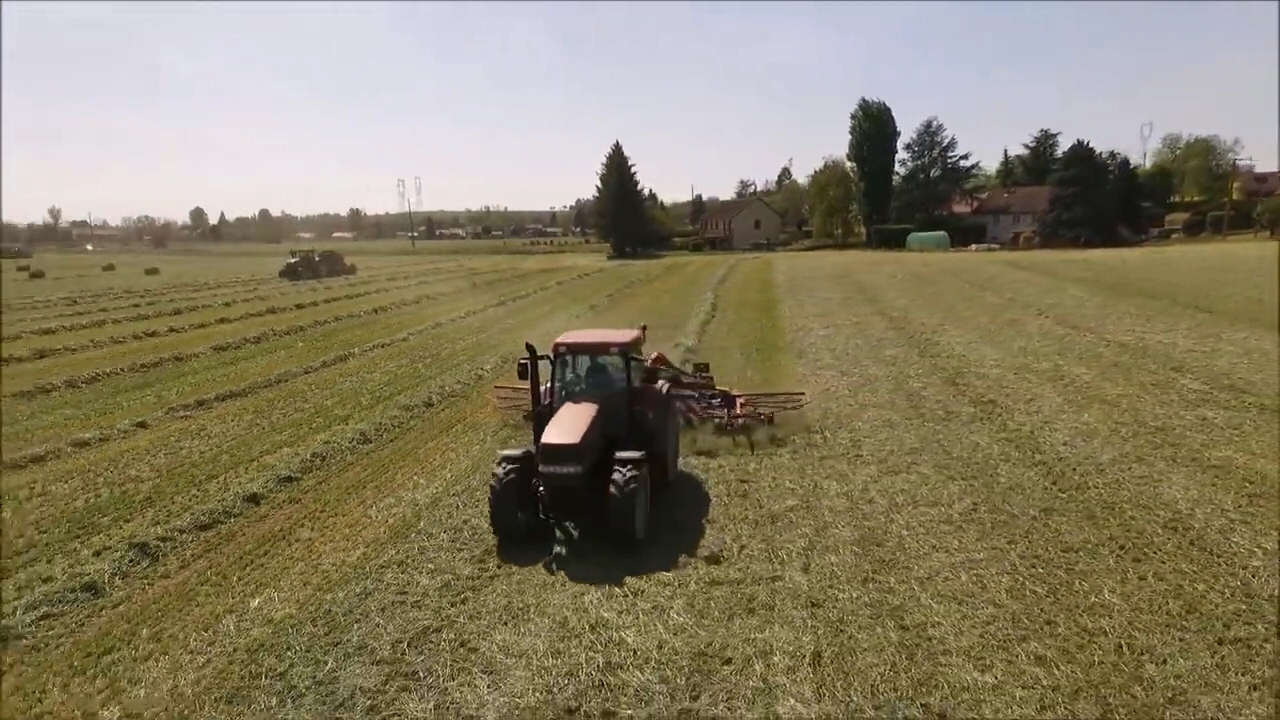traktor: (492, 327, 683, 560)
